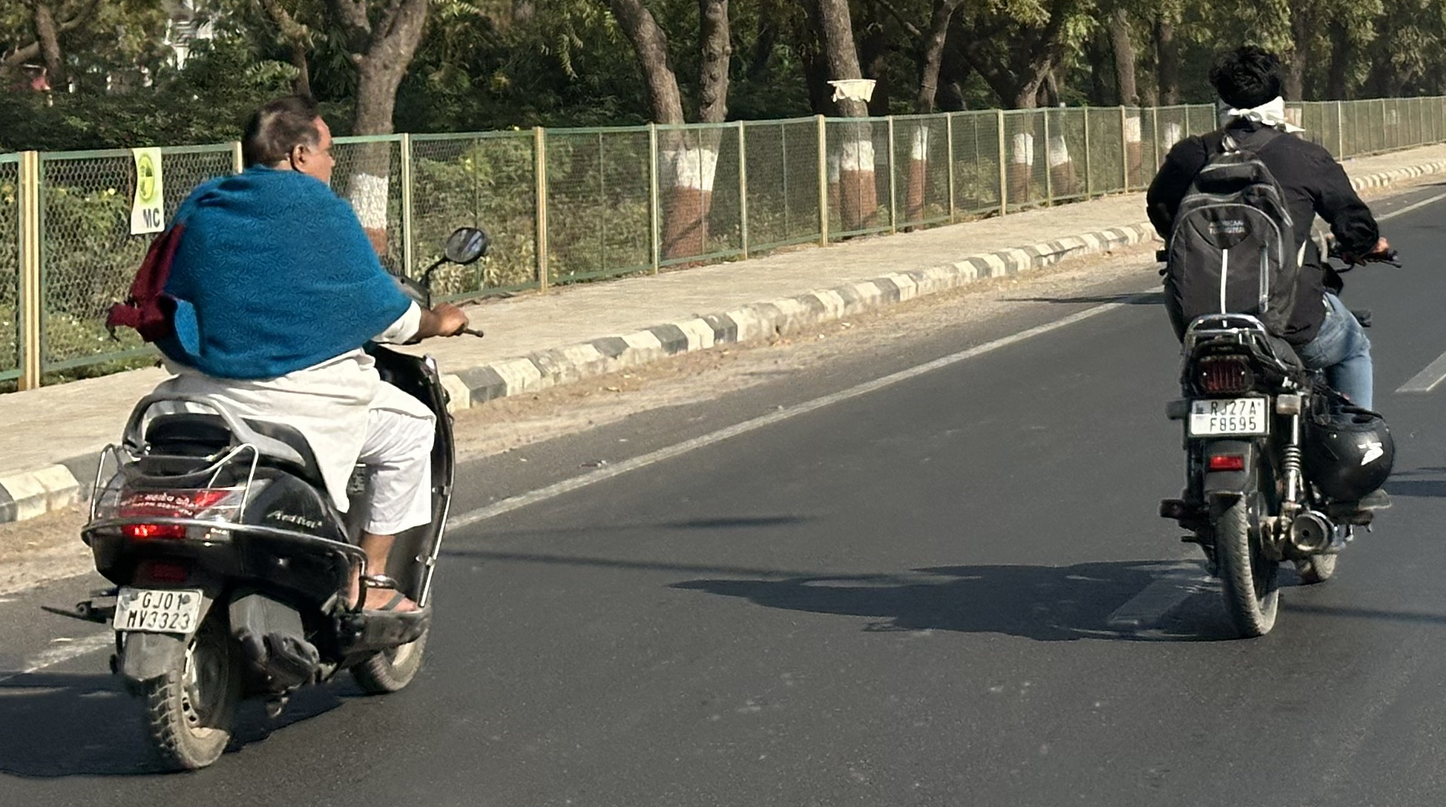BikeWithRider: (31, 83, 501, 780), (1127, 35, 1414, 646)
NoHelmet: (225, 84, 351, 194), (1194, 36, 1301, 136)
